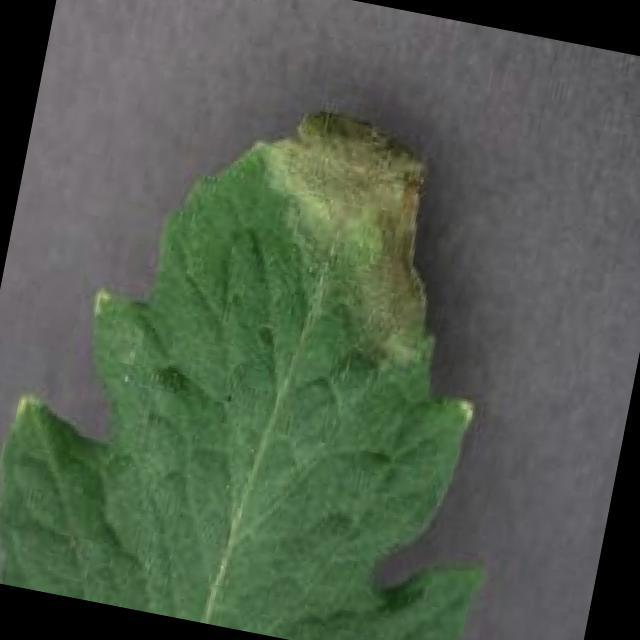Tomato late blight leaf: (0, 59, 574, 640)
